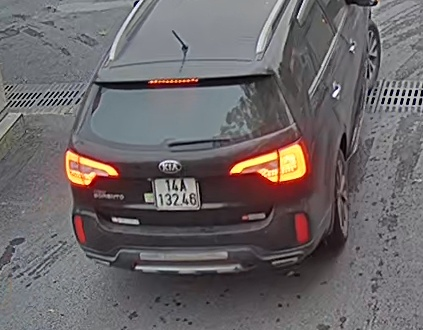vehicle plate: (147, 171, 204, 216)
